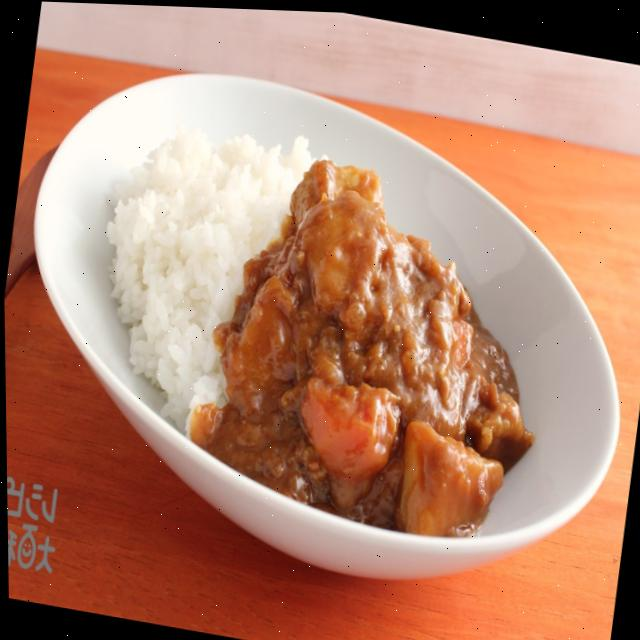Wet: (70, 90, 571, 552)
